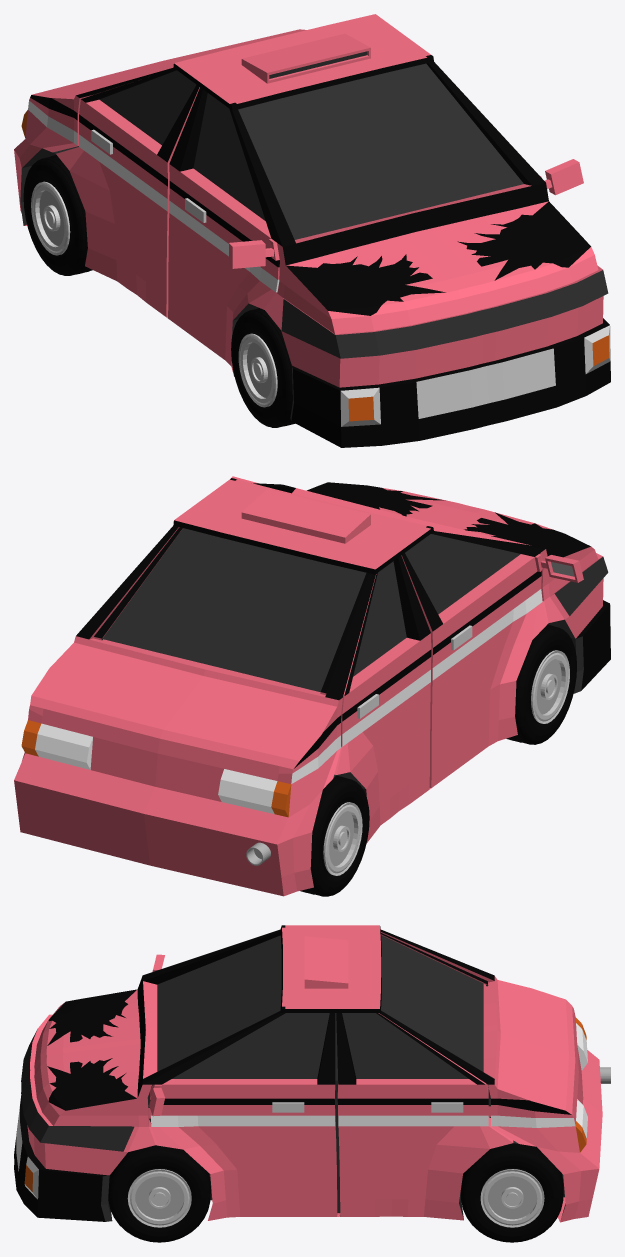
3 renders of one model, top to bottom at view 1: azimuth 30°, elevation 25°; view 2: azimuth 150°, elevation 25°; view 3: azimuth 270°, elevation 25°, orthographic. The views are drawn at different scales.
Visible parts, largest first — view 1: BODY32A, WHEEL.004, WHEEL.001; view 2: BODY32A, WHEEL.001, WHEEL.004; view 3: BODY32A, WHEEL.002, WHEEL.003.
Part boxes in pixels (x1,y1,x2,y2): BODY32A: (14,14,610,447); WHEEL.004: (23,155,92,275); WHEEL.001: (231,308,295,427); BODY32A: (14,476,610,896); WHEEL.001: (506,624,576,744); WHEEL.004: (300,775,369,896); BODY32A: (14,925,602,1222); WHEEL.002: (460,1143,563,1242); WHEEL.003: (108,1145,210,1242).
Size of the model in its own units: 131 by 95.05 by 226.
